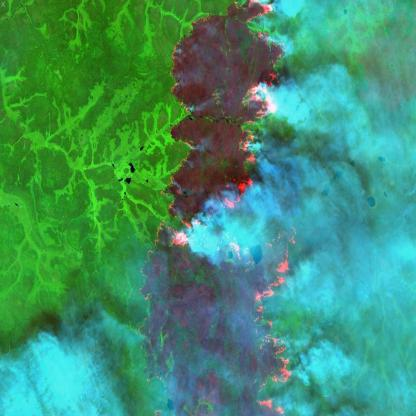fire: (147, 0, 297, 416)
